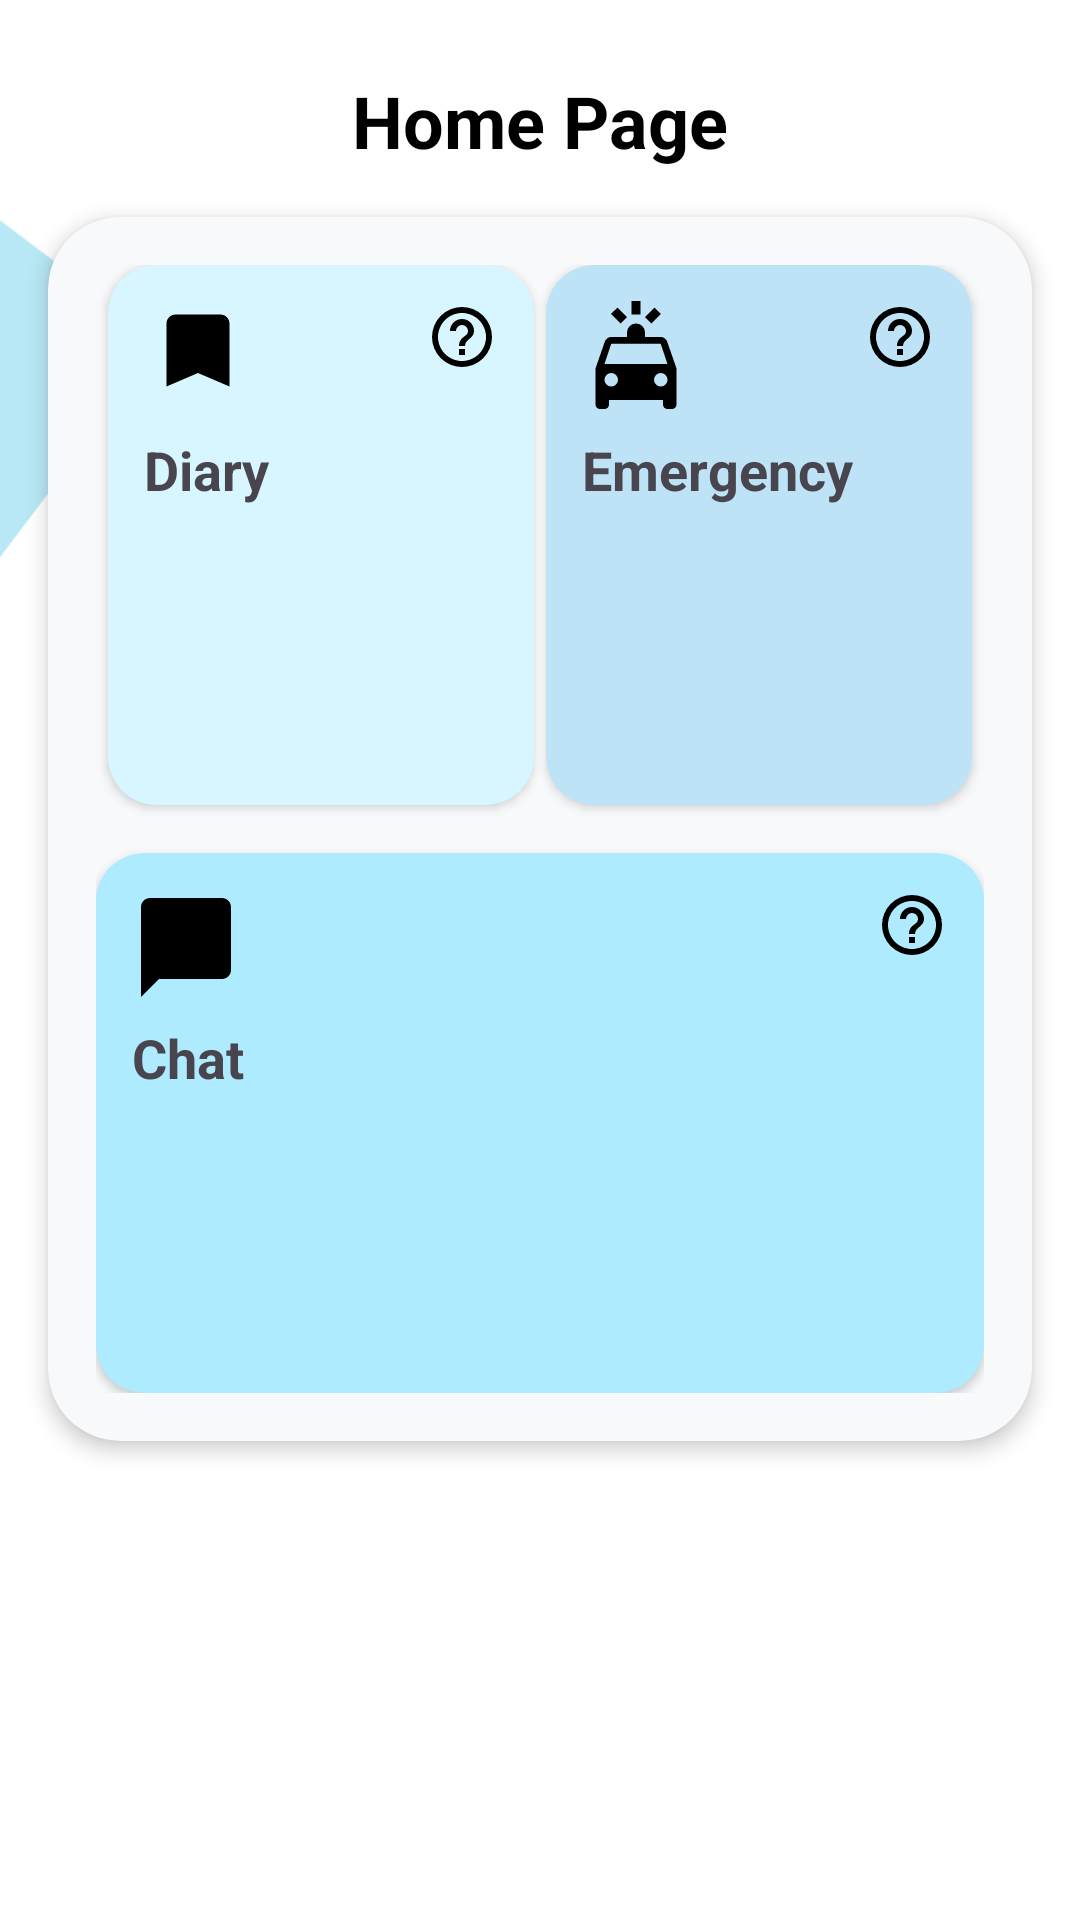

Locate icon controls on the screen. Image size 1080px×1920px, boxes as [x1=x1, y1=y1, x2=x2, y2=y2].
question: [x1=432, y1=307, x2=492, y2=367], [x1=870, y1=307, x2=930, y2=367], [x1=882, y1=895, x2=942, y2=955]
